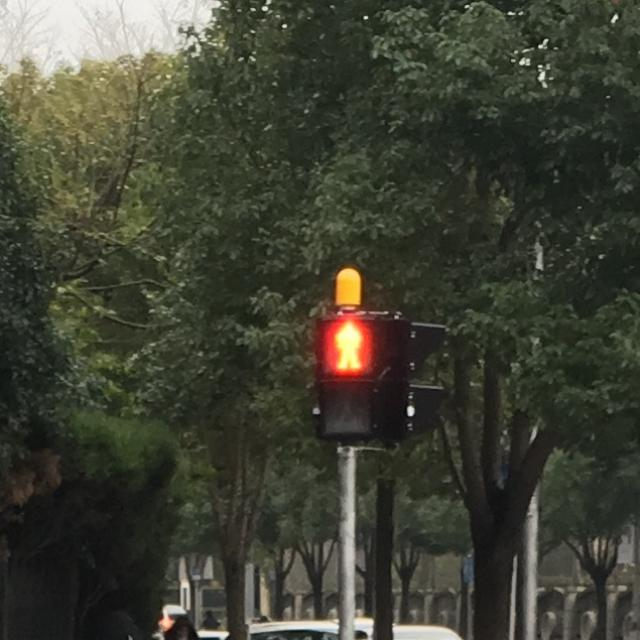red_light: (319, 318, 377, 381)
